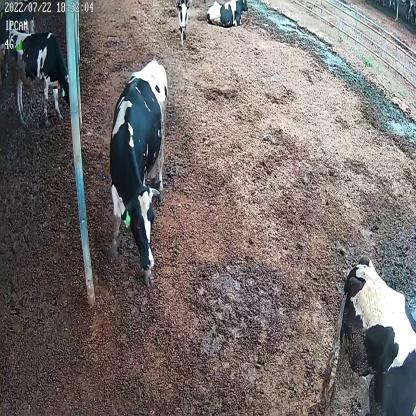cow: (106, 55, 168, 285), (6, 25, 71, 126), (205, 0, 249, 28), (176, 0, 190, 43)
